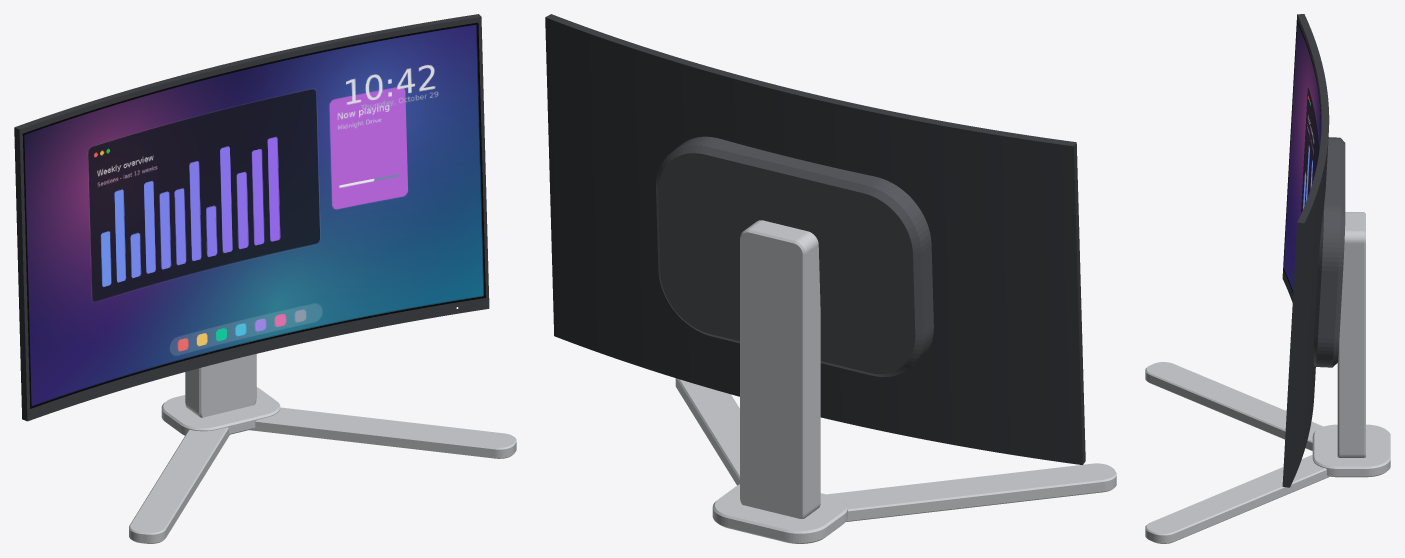
File: arc27_curved_monitor.glb
3 renders of one model, left to right at view 1: azimuth 30°, elevation 25°; view 2: azimuth 150°, elevation 25°; view 3: azimuth 270°, elevation 25°, orthographic. The views are drawn at different scales.
Parts seen in each view (by area): view 1: screen, bezel_body, foot_right, foot_left, neck, hub; view 2: bezel_body, rear_hump, neck, foot_left, hub, foot_right; view 3: bezel_body, neck, rear_hump, screen, foot_right, foot_left, hub.
Boxes of the visible parts, <box> form: screen: <box>22,22,485,408</box>; bezel_body: <box>14,14,489,421</box>; foot_right: <box>249,407,516,458</box>; foot_left: <box>129,427,229,543</box>; neck: <box>185,354,256,417</box>; hub: <box>161,387,280,435</box>; bezel_body: <box>545,14,1085,464</box>; rear_hump: <box>656,136,933,377</box>; neck: <box>740,220,820,518</box>; foot_left: <box>826,463,1116,521</box>; hub: <box>712,484,847,543</box>; foot_right: <box>675,378,739,485</box>; bezel_body: <box>1282,14,1329,487</box>; neck: <box>1337,212,1365,457</box>; rear_hump: <box>1313,137,1345,367</box>; screen: <box>1283,20,1320,293</box>; foot_right: <box>1145,455,1329,543</box>; foot_left: <box>1145,362,1323,450</box>; hub: <box>1312,424,1390,477</box>.
Bounding box in the file's own units: 0.5976 × 0.4533 × 0.296.
Materials: 6 (1 with a texture image).
